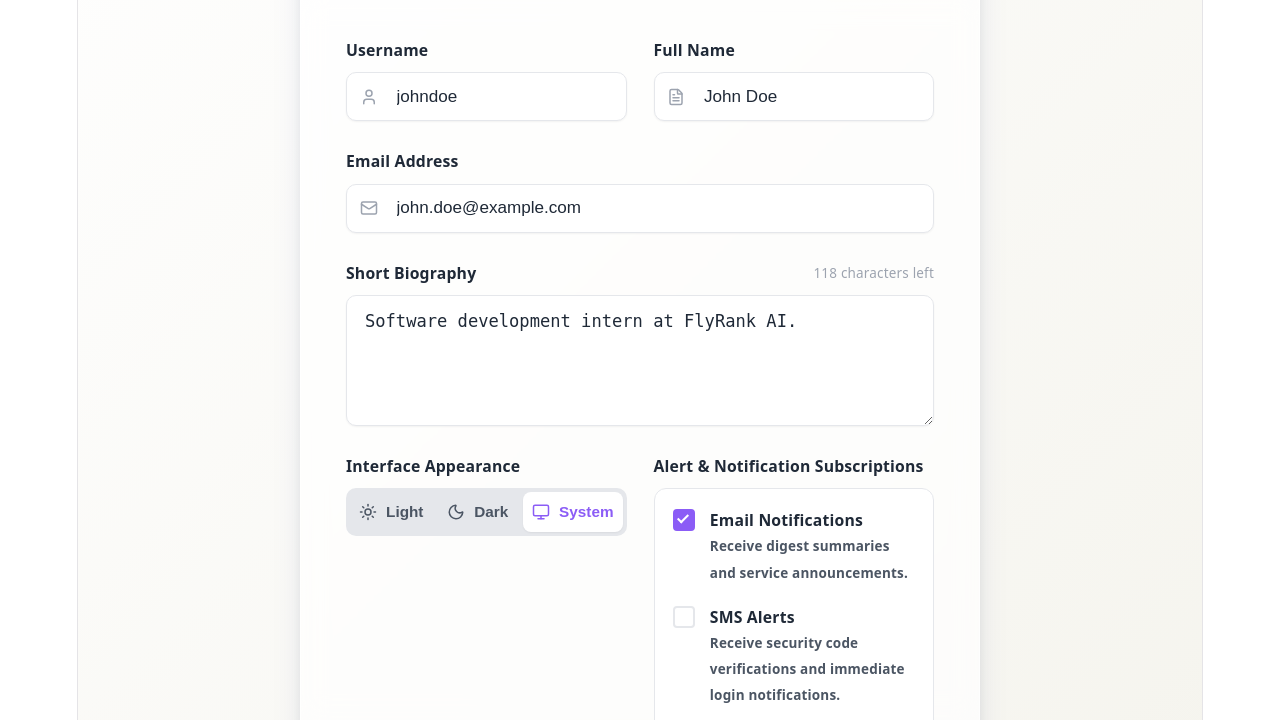
Test: Profile Settings Form - Round Two › calculates remaining characters in biography live
The image size is (1280, 720).
(page scrolled)
Expected: the text "118 characters left" is shown, [814,260,934,286]
Replace the text in the text box labelled "Short Biography" with "Hello" at (640, 360), box [346,295,934,426]
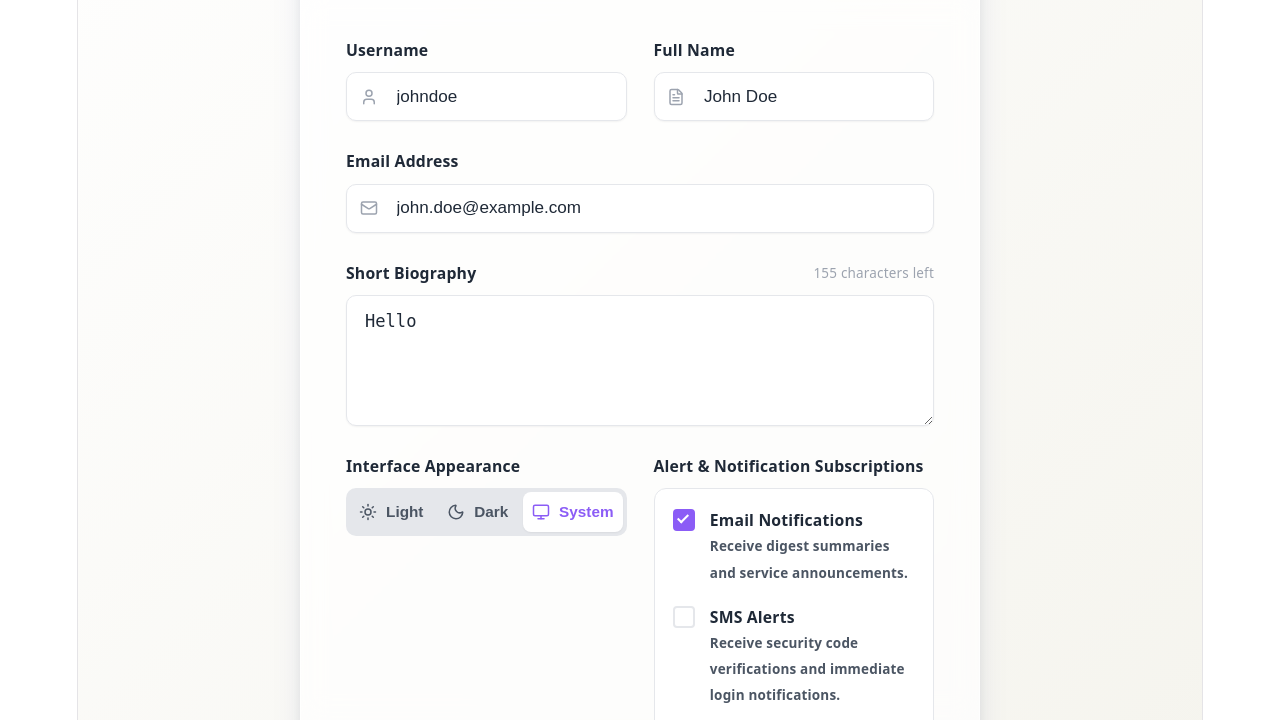
Now the text "155 characters left" is shown, box [814,260,934,286]
